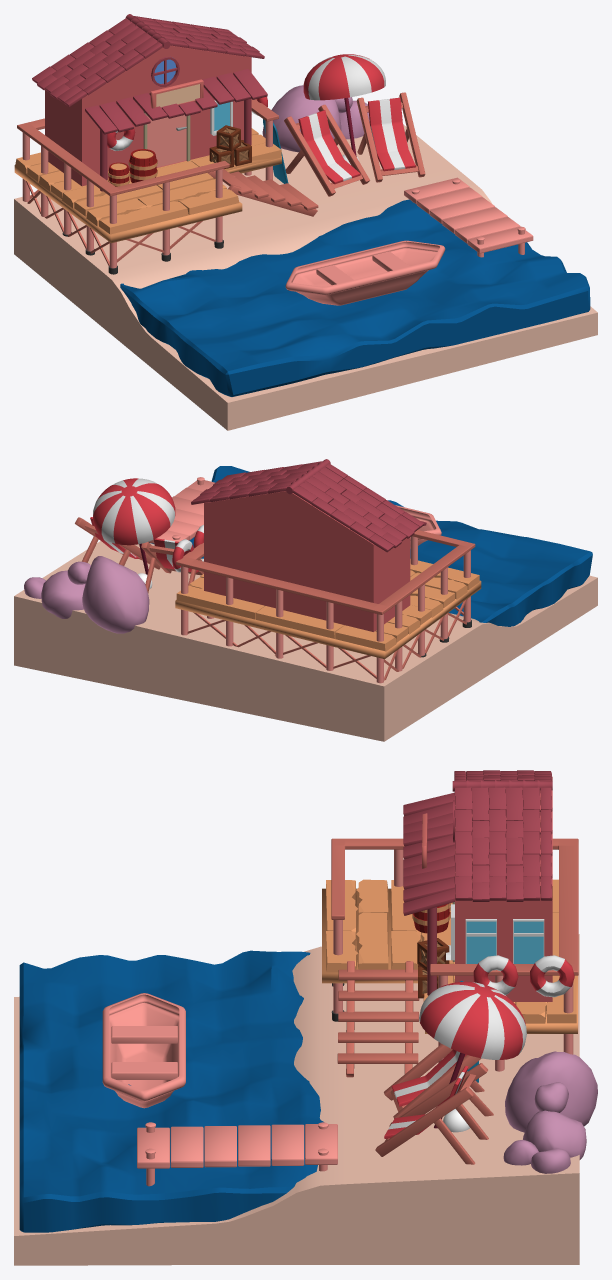
File: summer.glb
3 renders of one model, top to bottom at view 1: azimuth 30°, elevation 25°; view 2: azimuth 150°, elevation 25°; view 3: azimuth 270°, elevation 25°, orthographic. The views are drawn at different scales.
Visible parts, largest first — view 1: Object_24, Object_4, Object_6, Object_54, Object_36, Object_10, Object_46, Object_9, Object_8, Object_14, Object_101, Object_74 (+1 smaller); view 2: Object_4, Object_46, Object_24, Object_36, Object_54, Object_10, Object_14, Object_6, Object_9, Object_8; view 3: Object_4, Object_24, Object_54, Object_6, Object_10, Object_36, Object_14, Object_9, Object_8, Object_46, Object_57, Object_101.
Boxes of the visible parts, <box> form: Object_24: <box>120,199,590,396</box>; Object_4: <box>14,124,597,430</box>; Object_6: <box>22,114,533,305</box>; Object_54: <box>32,14,267,191</box>; Object_36: <box>14,128,281,243</box>; Object_10: <box>17,92,425,265</box>; Object_46: <box>45,45,251,186</box>; Object_9: <box>107,54,415,184</box>; Object_8: <box>109,55,408,181</box>; Object_14: <box>262,85,369,152</box>; Object_101: <box>209,125,251,168</box>; Object_74: <box>108,149,157,186</box>; Object_4: <box>14,541,597,741</box>; Object_46: <box>204,491,410,631</box>; Object_24: <box>149,466,592,626</box>; Object_36: <box>175,559,481,659</box>; Object_54: <box>191,459,426,552</box>; Object_10: <box>75,517,475,680</box>; Object_14: <box>24,556,149,633</box>; Object_6: <box>148,477,470,683</box>; Object_9: <box>90,478,203,572</box>; Object_8: <box>93,478,203,572</box>; Object_4: <box>14,934,579,1265</box>; Object_24: <box>19,950,323,1232</box>; Object_54: <box>403,770,552,995</box>; Object_6: <box>102,849,573,1186</box>; Object_10: <box>331,838,578,1164</box>; Object_36: <box>322,879,577,1033</box>; Object_14: <box>503,1051,597,1173</box>; Object_9: <box>384,959,574,1138</box>; Object_8: <box>388,904,570,1129</box>; Object_46: <box>455,776,552,1001</box>; Object_57: <box>466,921,543,963</box>; Object_101: <box>417,938,449,998</box>.
Bounding box in the file's own units: 14.03 × 8.79 × 14.46.
